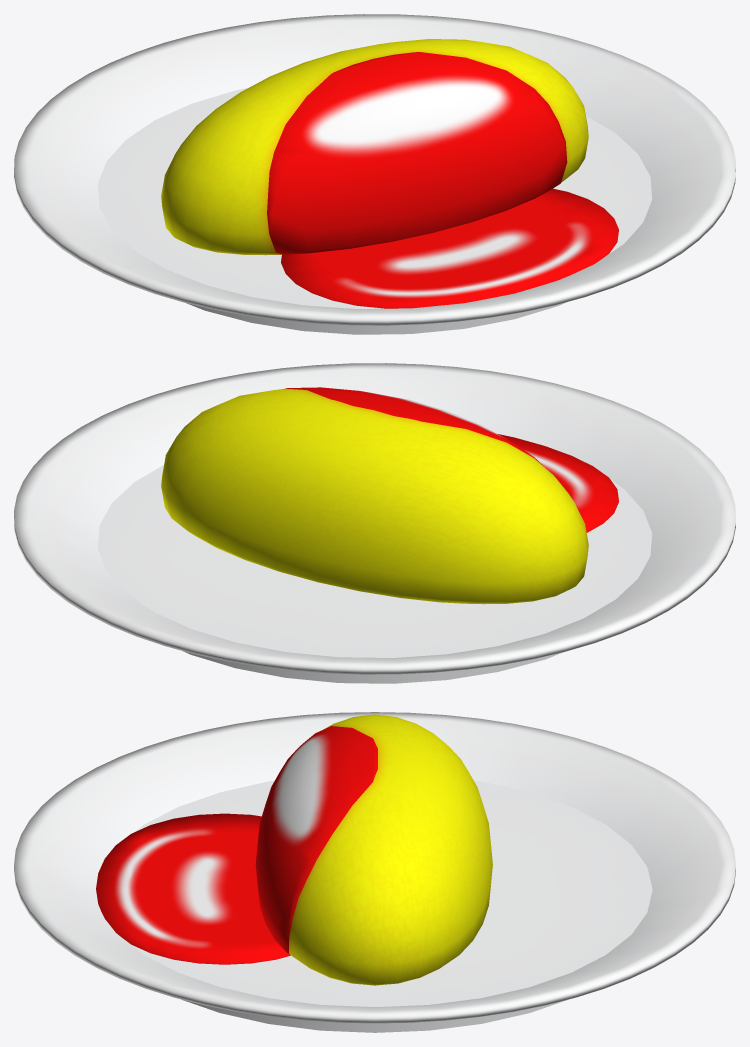
File: omrice.fbx
3 views of the same model, one above another, from view 1: azimuth 30°, elevation 25°; view 2: azimuth 150°, elevation 25°; view 3: azimuth 270°, elevation 25° (orthographic).
Parts seen in each view (by area): view 1: omu, sara; view 2: sara, omu; view 3: sara, omu.
Part boxes in pixels (bbox=[...]): omu: bbox=[161, 39, 618, 308]; sara: bbox=[14, 14, 735, 334]; sara: bbox=[14, 363, 735, 683]; omu: bbox=[161, 387, 618, 604]; sara: bbox=[14, 712, 735, 1032]; omu: bbox=[96, 714, 492, 985].
Bounding box in the file's own units: 0.312 × 0.075 × 0.312.
